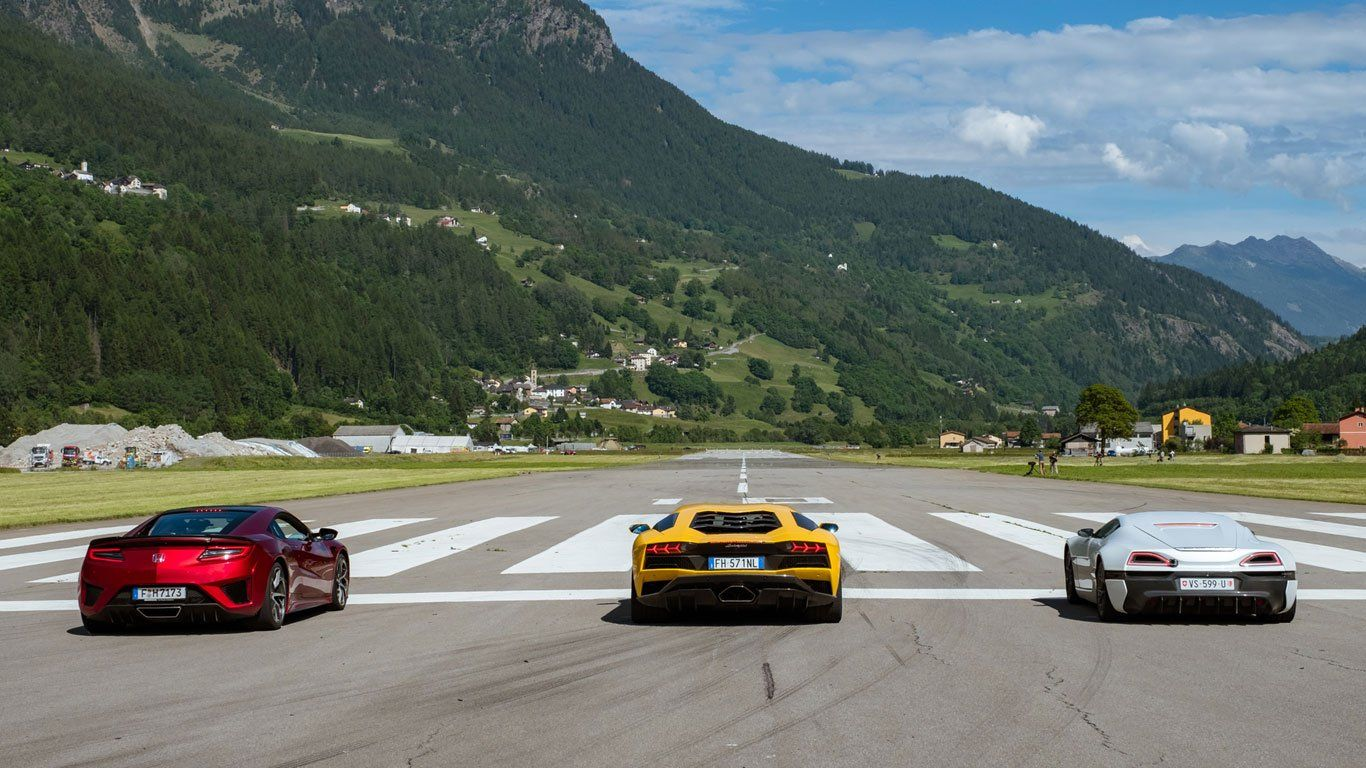tablica: (1178, 575, 1234, 588), (132, 584, 183, 598), (708, 557, 763, 569)
